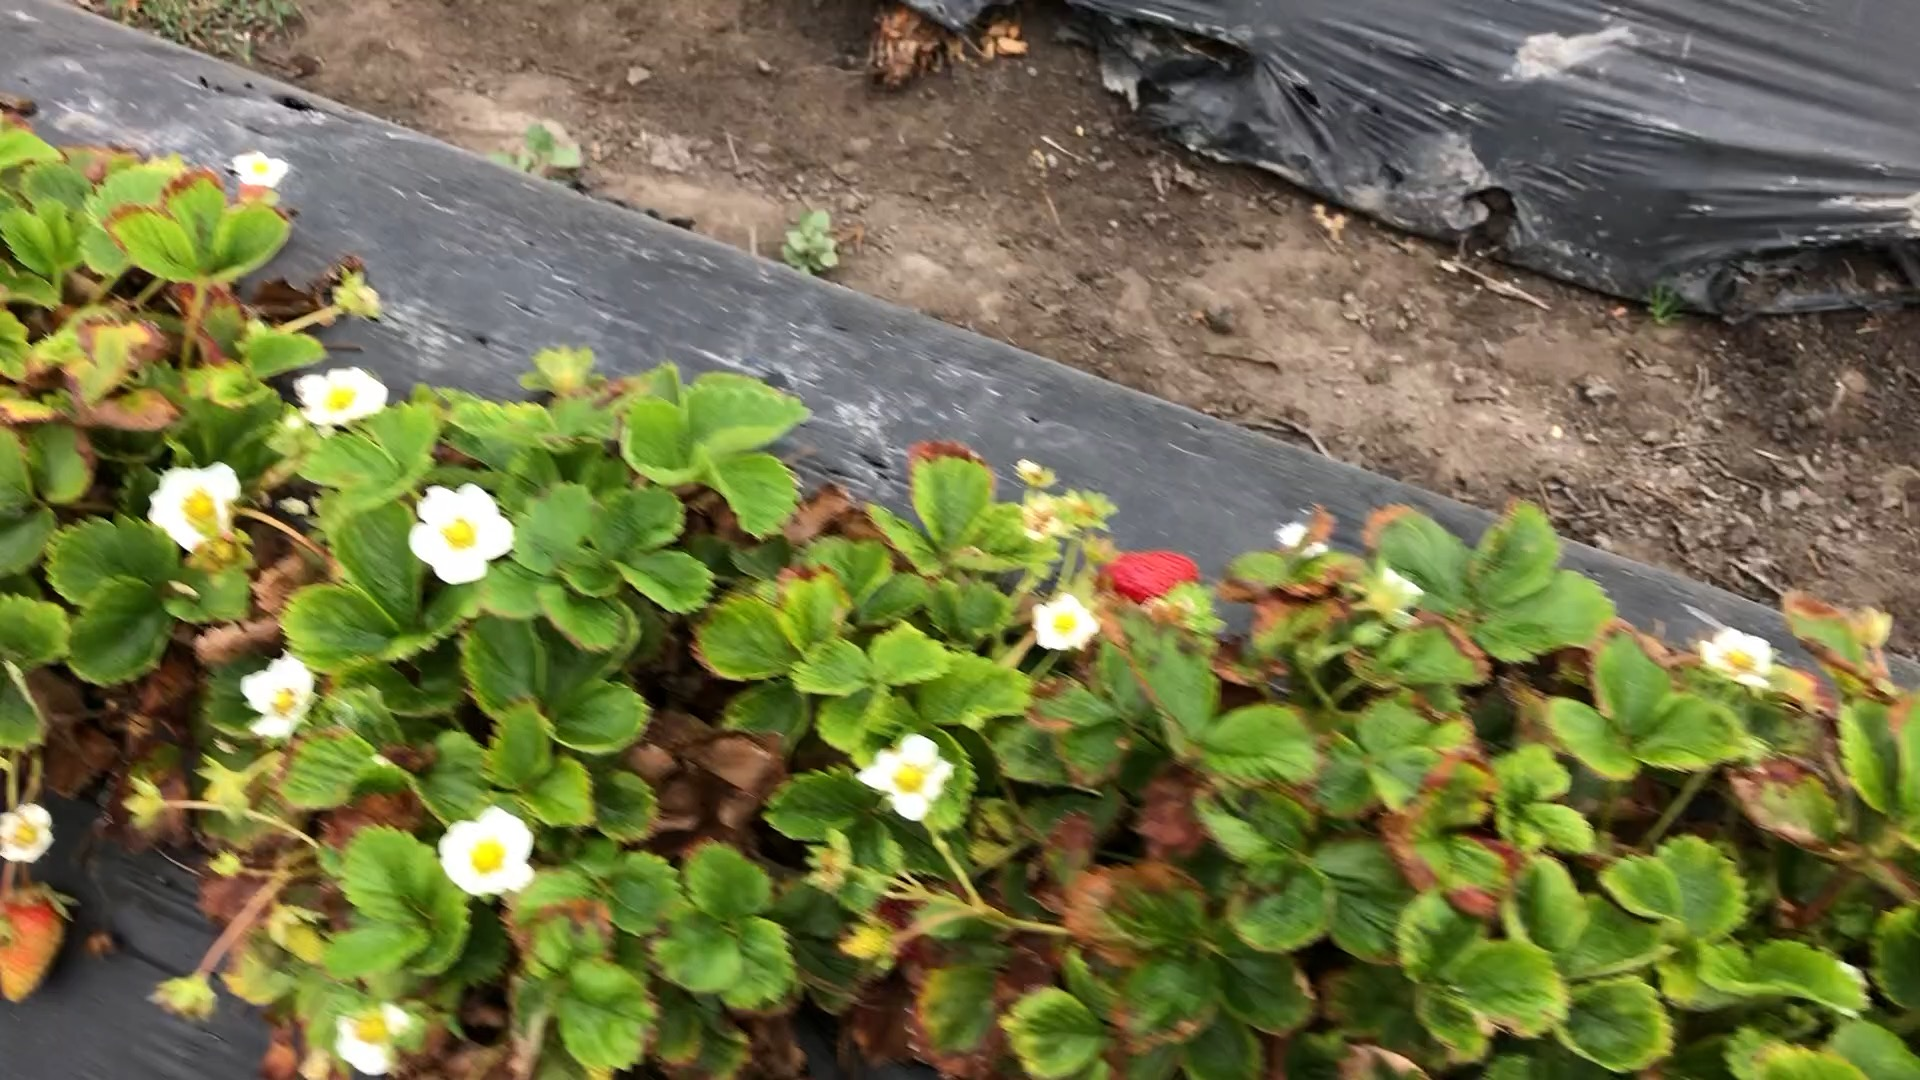ripe_strawberry: (1104, 549, 1205, 607)
unripe_strawberry: (1, 886, 67, 1006)
